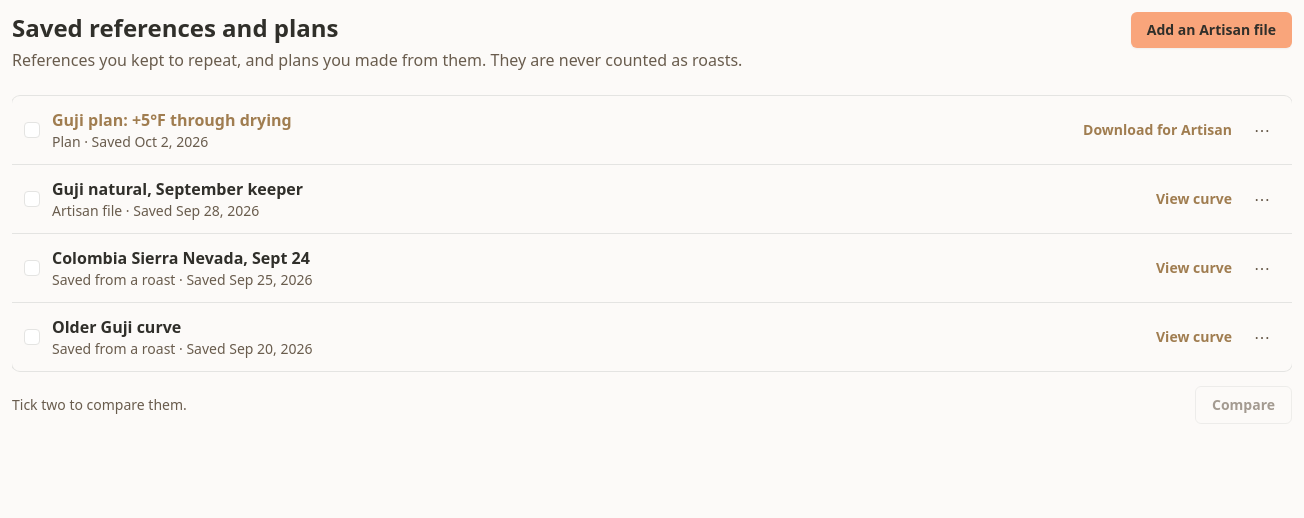
Test: renaming › saves the new name only when the member confirms it
The image size is (1304, 518).
Click the button "⋯" in the row of "Guji natural, September keeper": (1262, 199) [1244,181,1280,217]
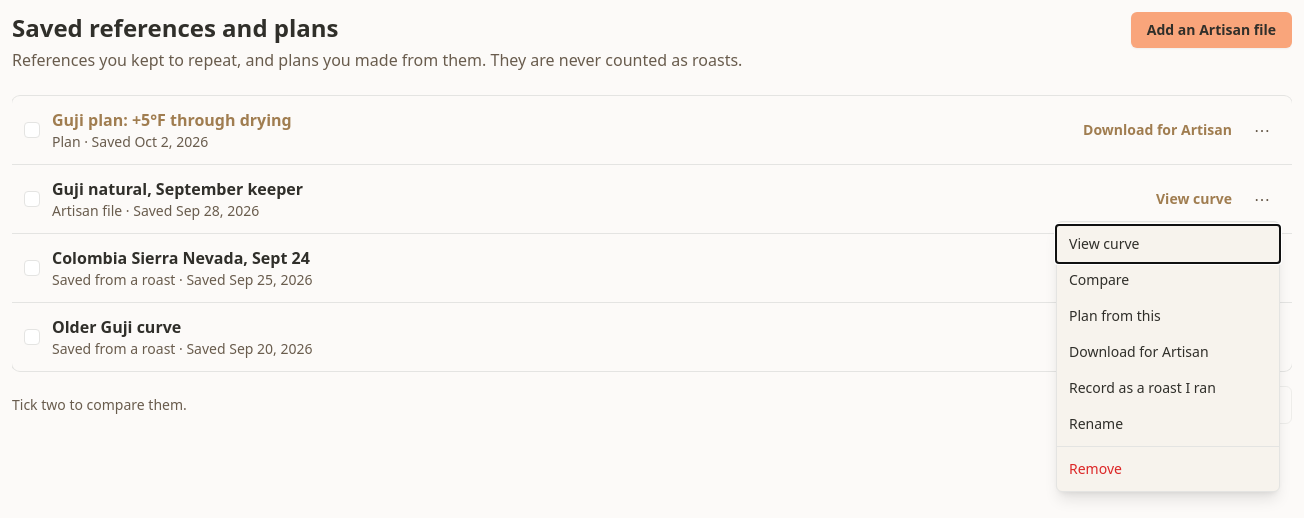
Click the menu item "Rename": (1168, 424) [1057,406,1279,442]
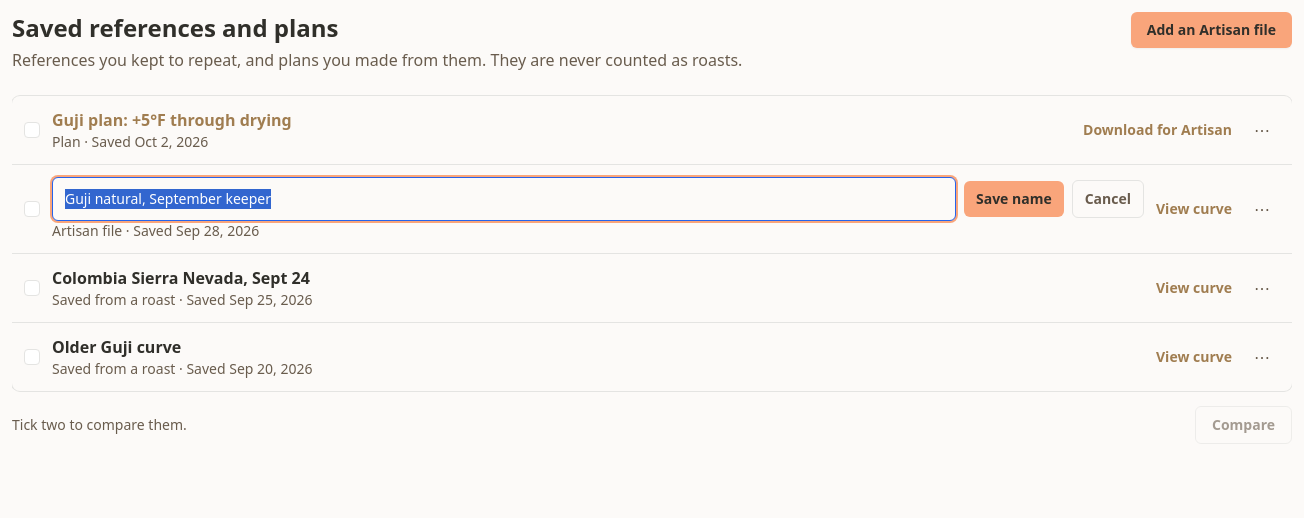
Expected: the field named "Name" holds "Guji natural, September keeper"
Replace the text in the field named "Name" with "  Guji keeper, 402°F drop  ": (504, 199) [52,177,956,221]
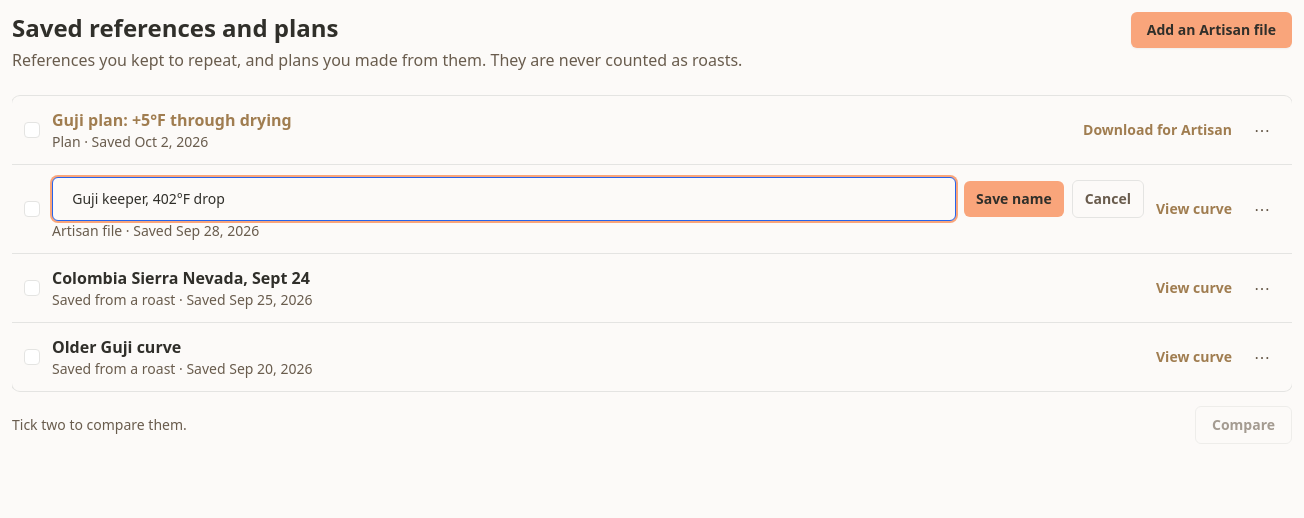
Click the button "Save name": (1014, 199) [964,181,1064,217]
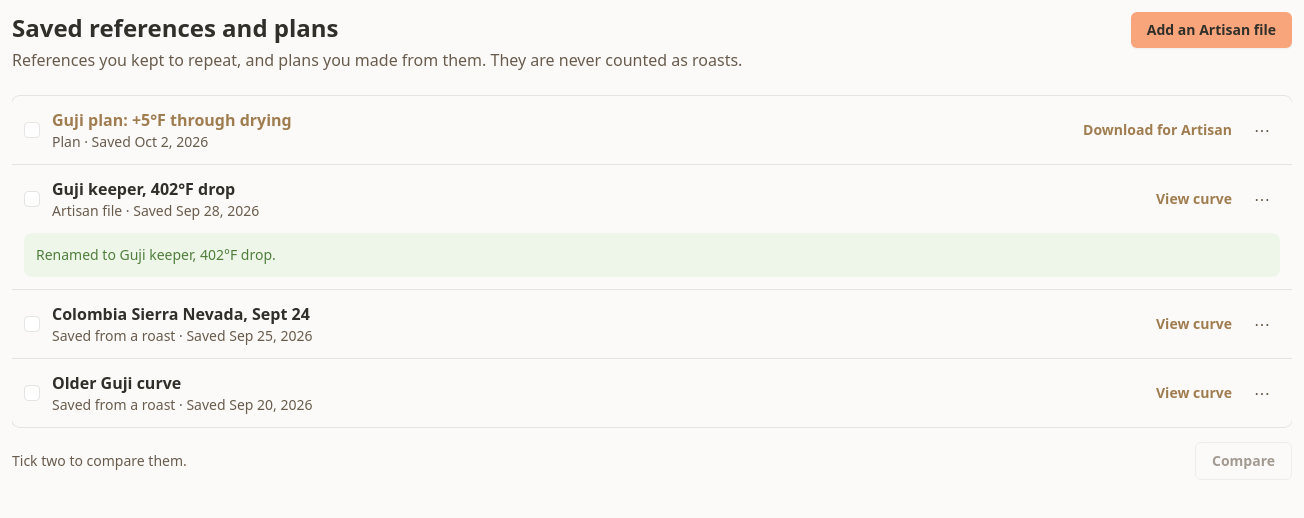
Expected: the text "Renamed to Guji keeper, 402°F drop." is shown, [24,233,1280,277]
Expected: the button "Save name" is gone
